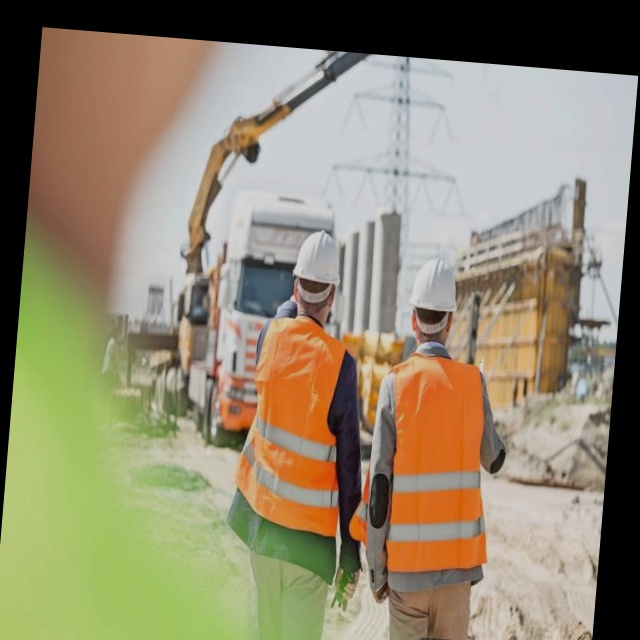Con_Casco: (406, 256, 463, 347), (289, 228, 346, 315)
Con_Chaleco: (366, 356, 495, 587), (230, 315, 364, 537)
